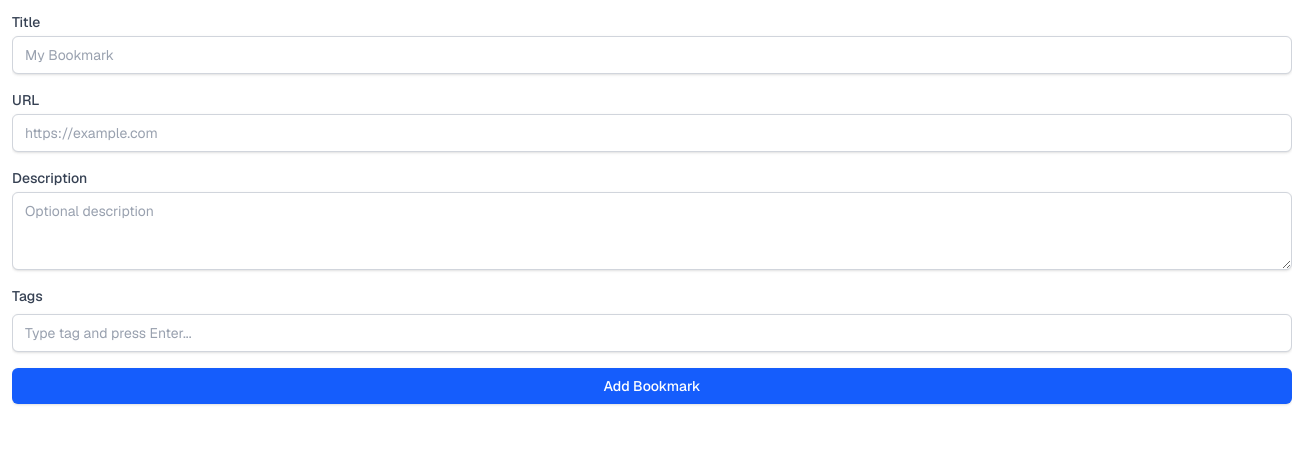
Scenario: AddBookmarkForm (Edit Mode) › shows validation error when submitting empty form
Click the button "Add Bookmark": coordinates (652, 386) [12,368,1292,404]
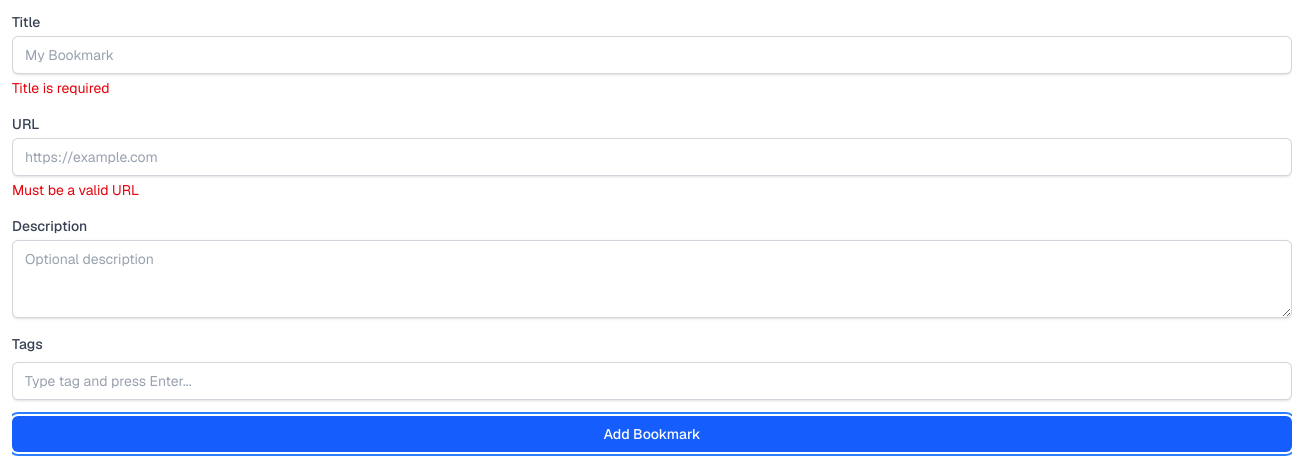
Expected: the text "Title is required" is shown, [12,79,110,97]
